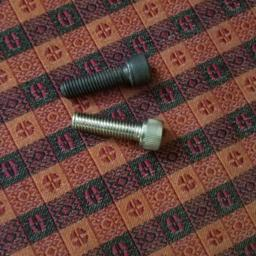screwtype1black: (53, 52, 153, 98)
screwtype1silver: (69, 110, 166, 152)
